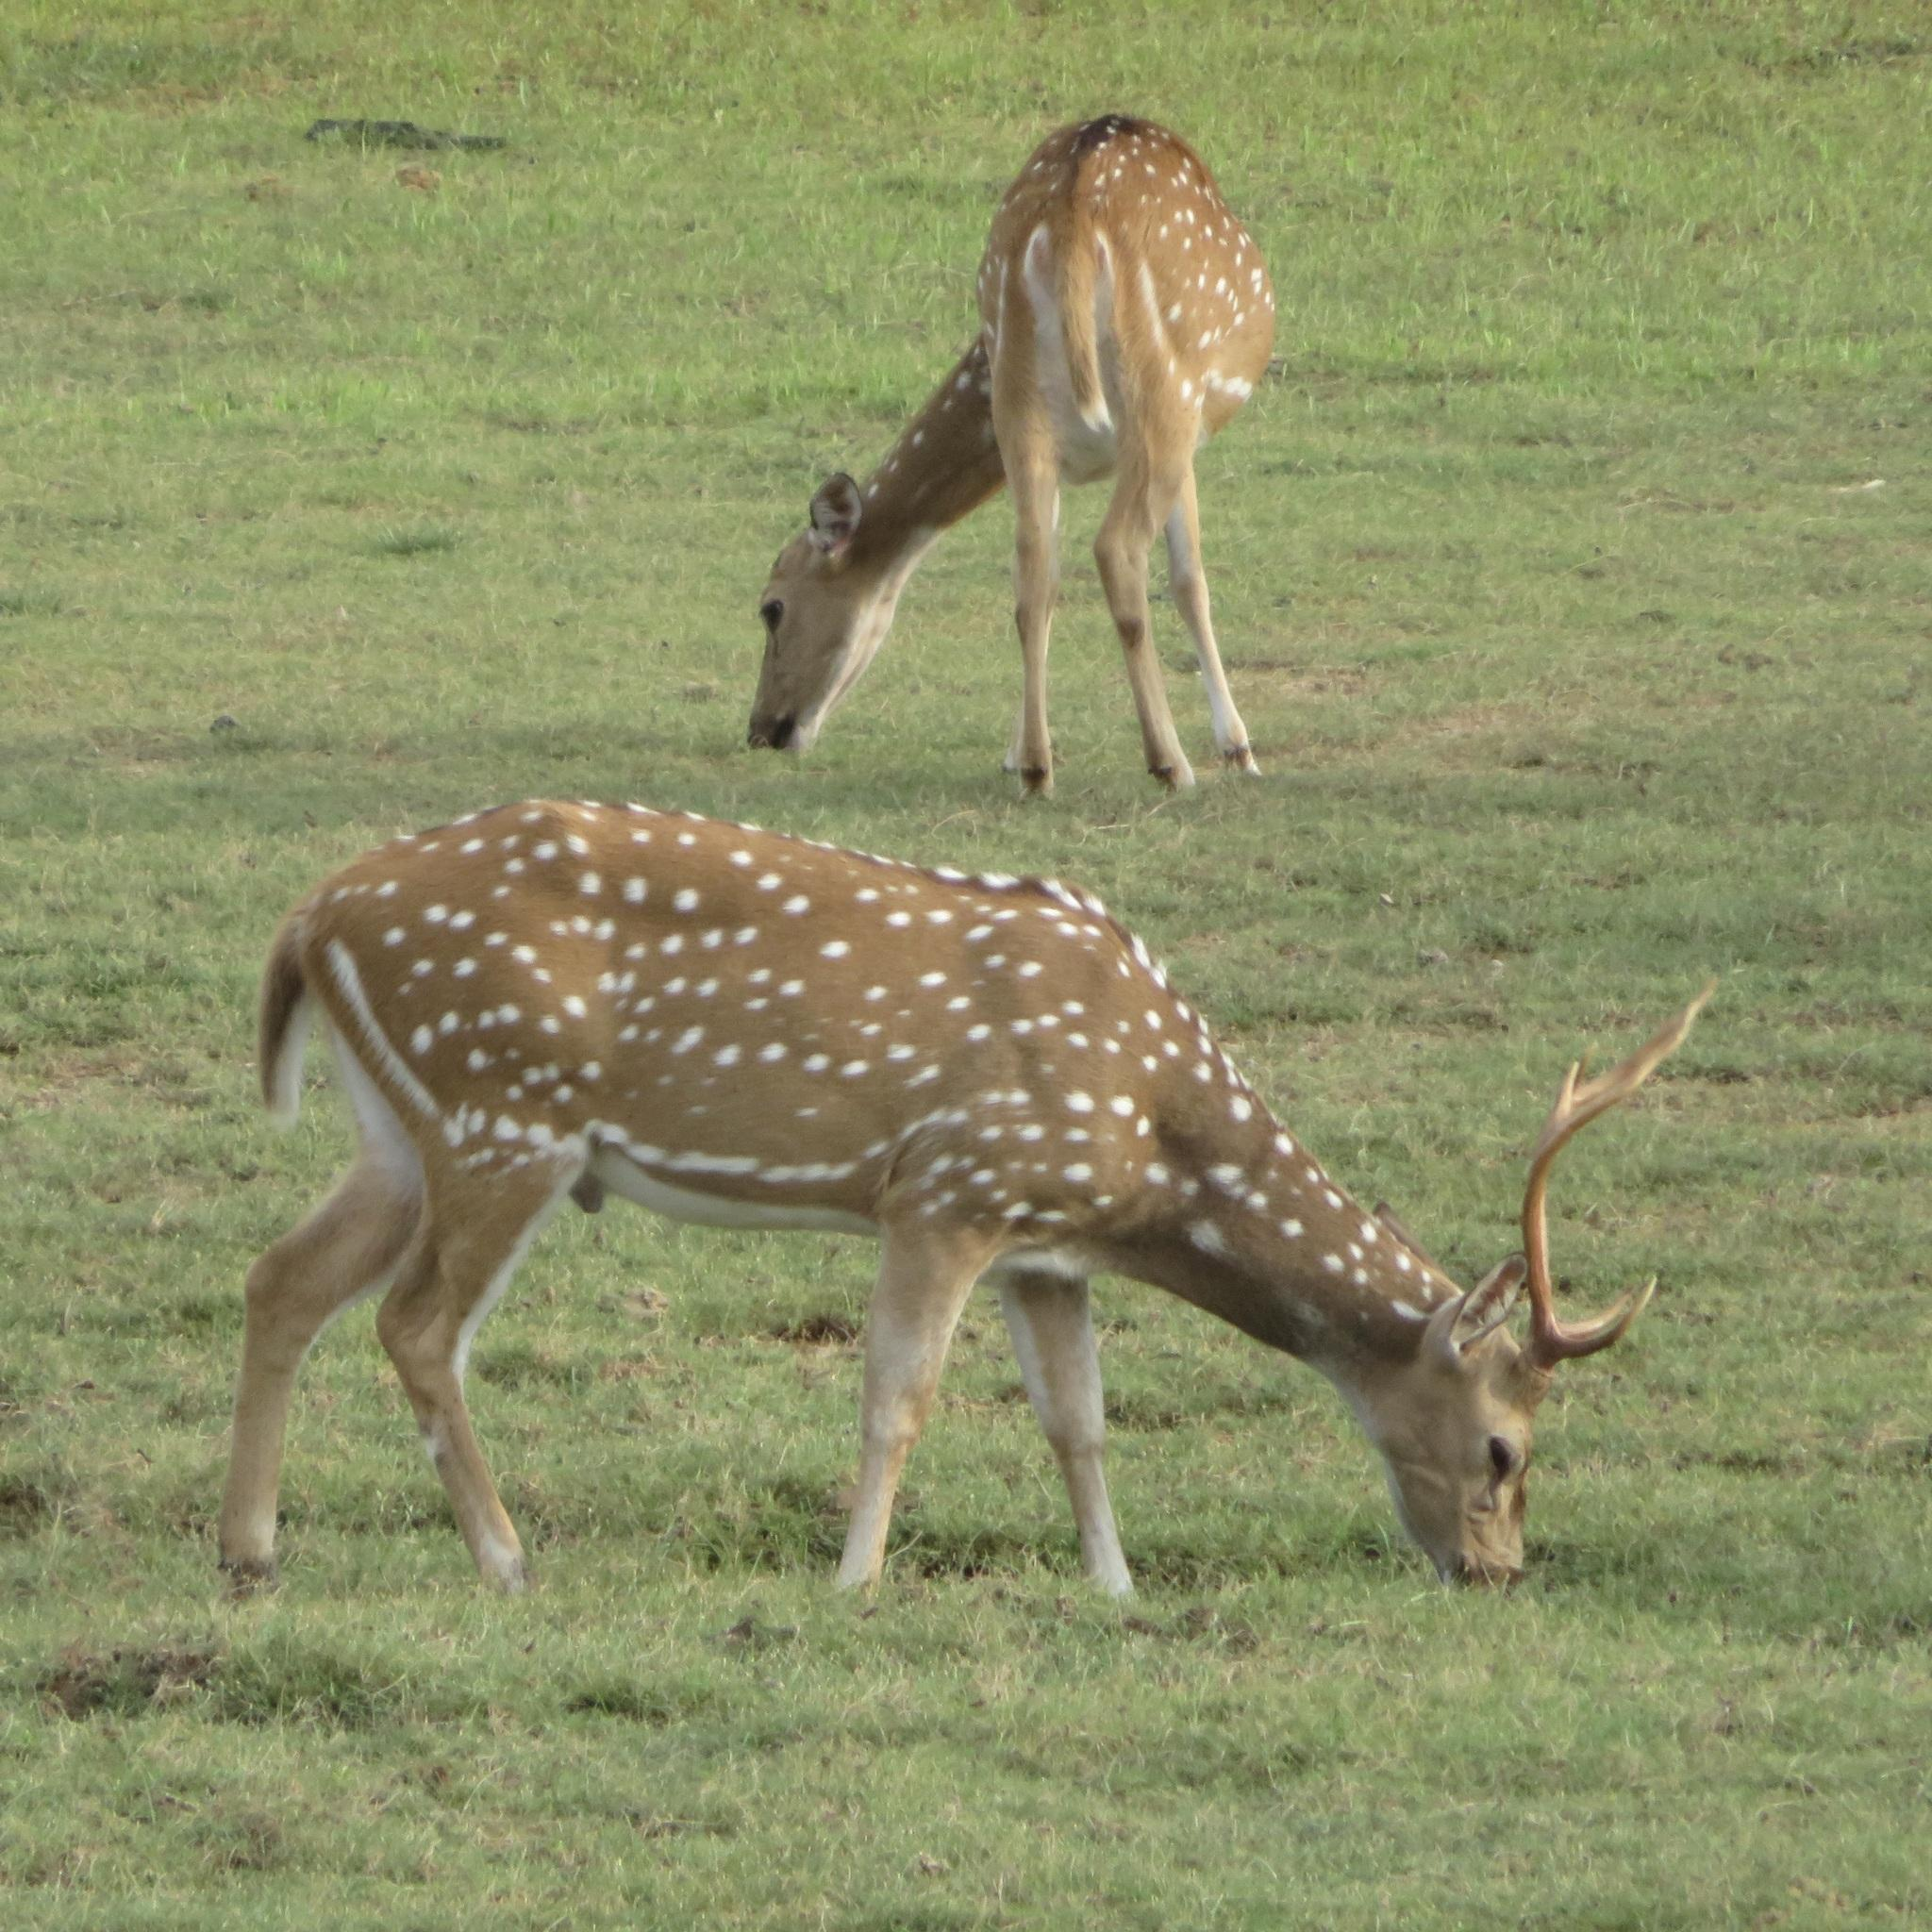Deer: (219, 800, 1711, 1594), (750, 115, 1274, 794)
